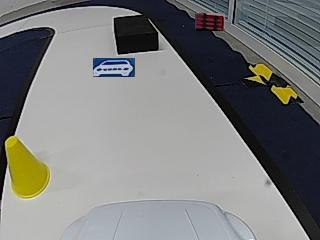block: (114, 15, 159, 53)
cone: (5, 134, 50, 198)
